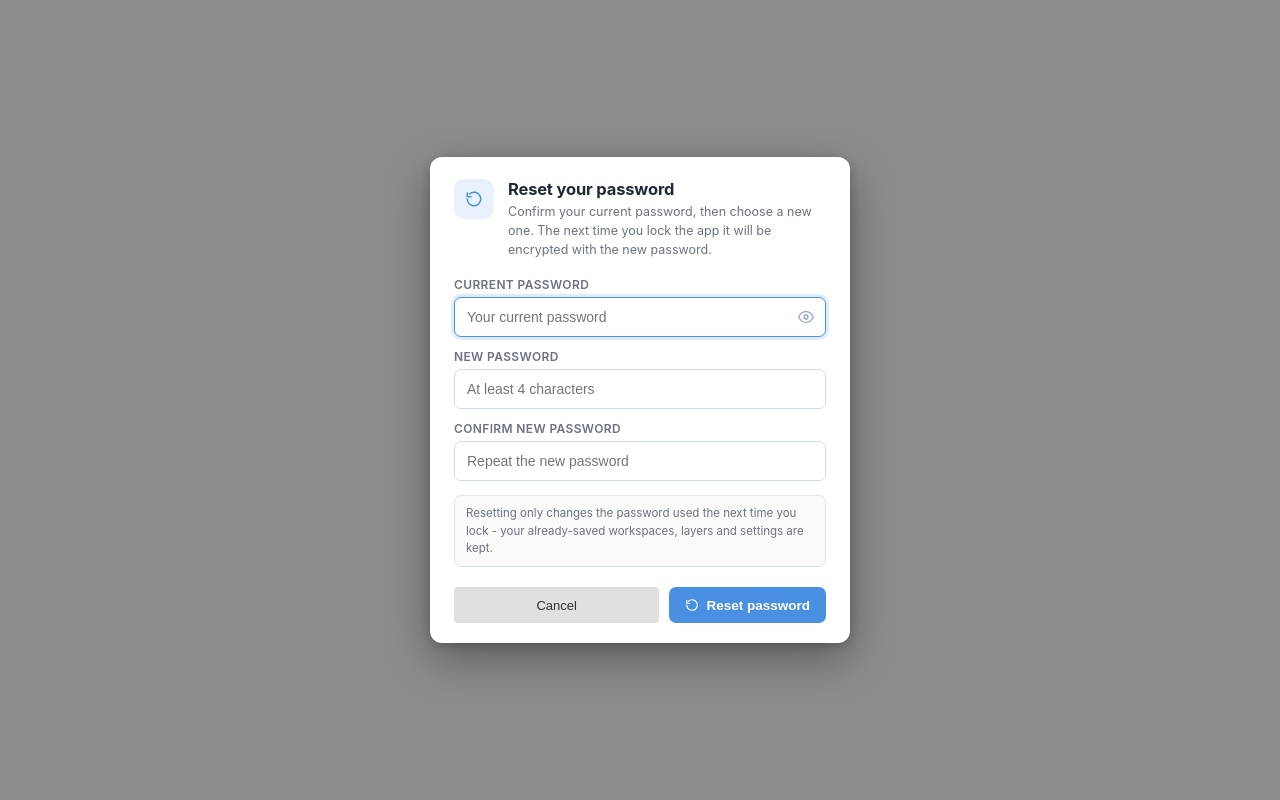
ResetPasswordDialog reports a wrong current password
The width and height of the screenshot is (1280, 800).
Type "nope" into the password field labelled "Current password" at (640, 317), box [454, 297, 826, 337]
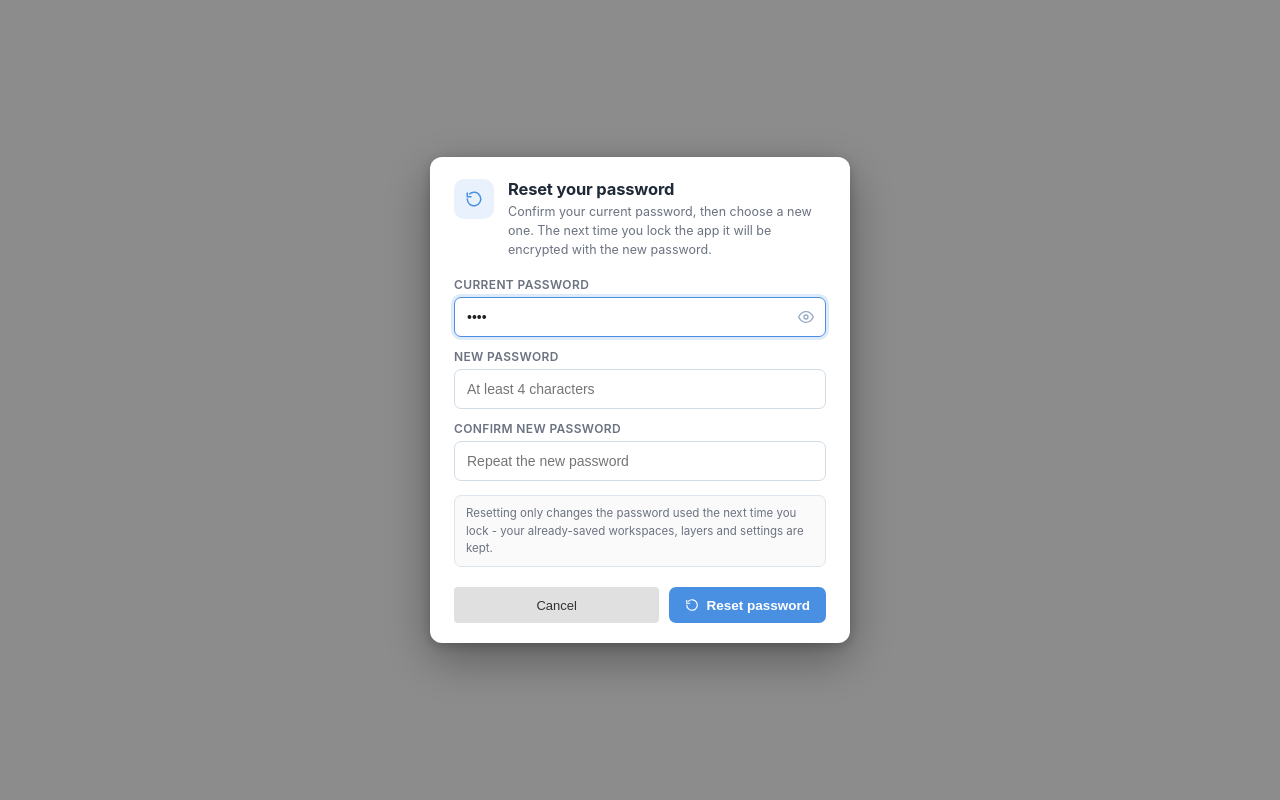
Type "newpass2" into the password field labelled "New password" at (640, 389), box [454, 369, 826, 409]
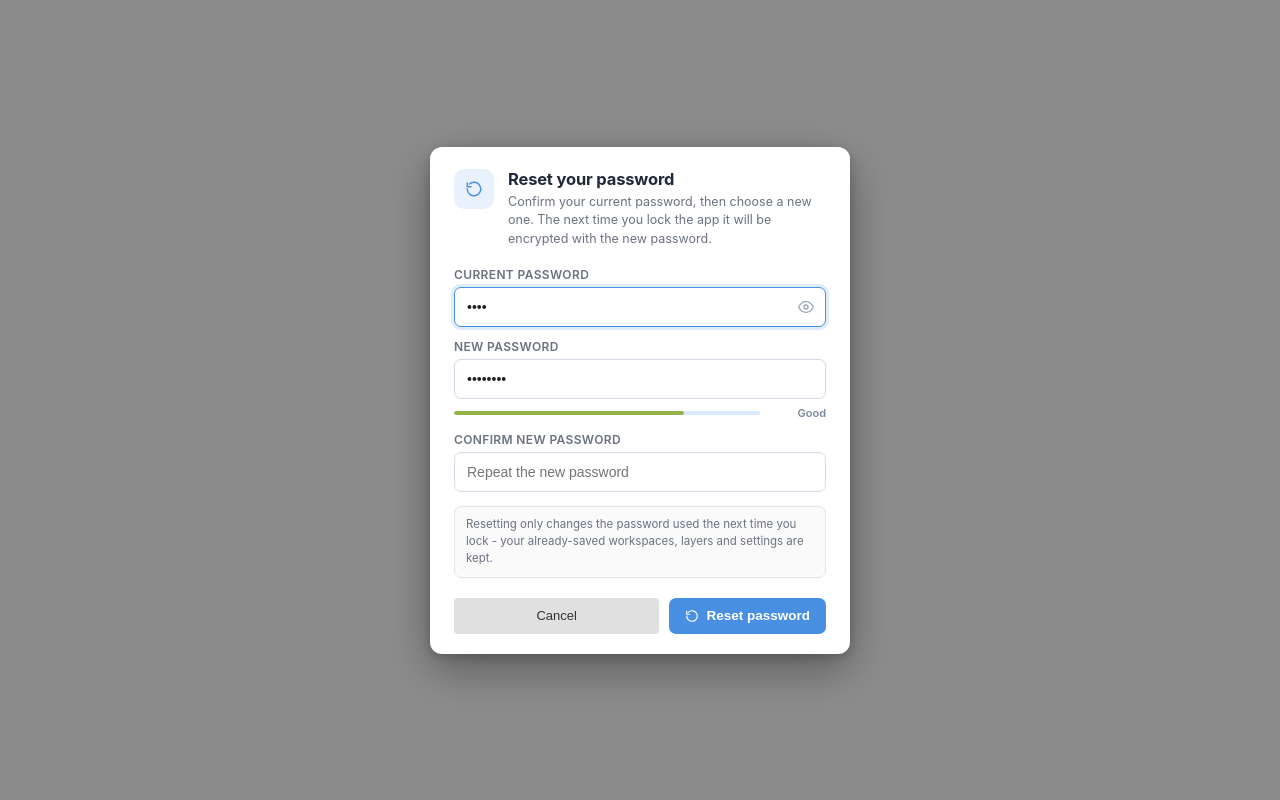
Type "newpass2" into the password field labelled "Confirm new password" at (640, 472), box [454, 452, 826, 492]
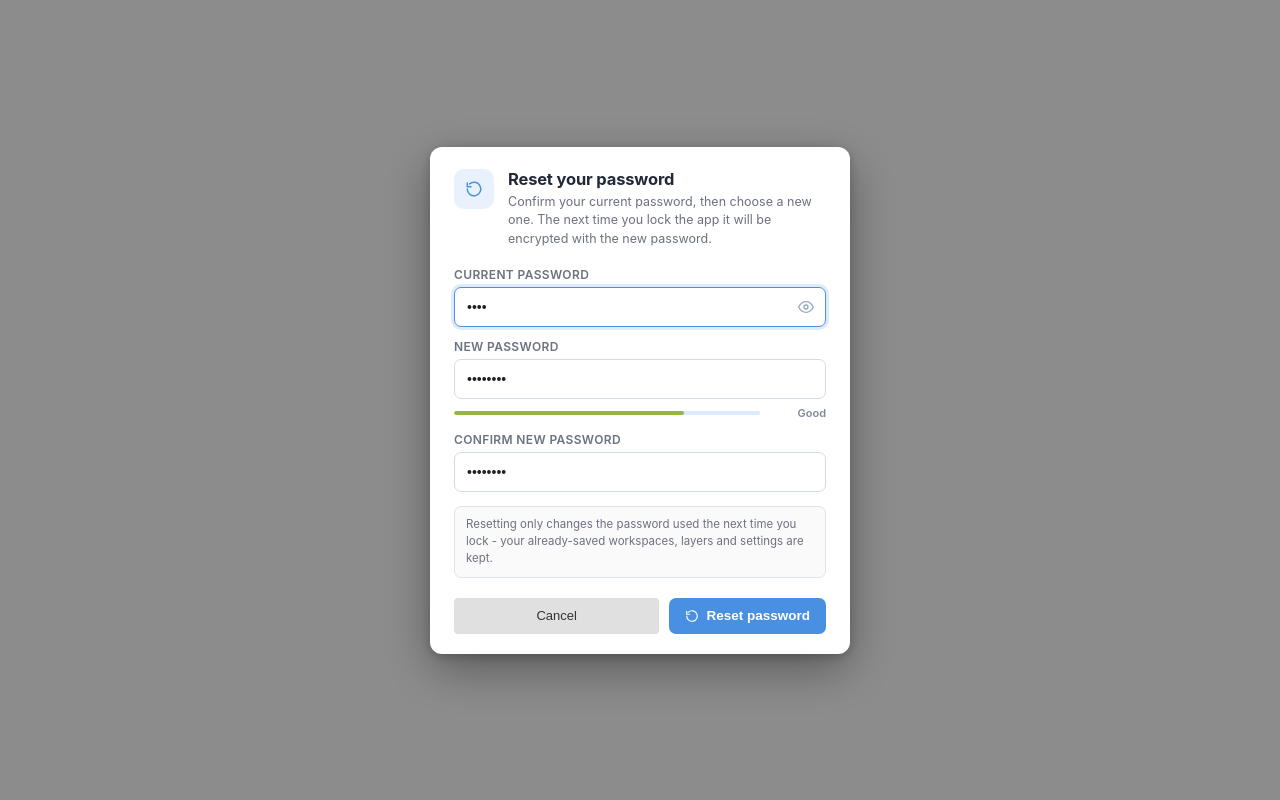
Click the button "Reset password" at (748, 616), box [670, 598, 826, 634]
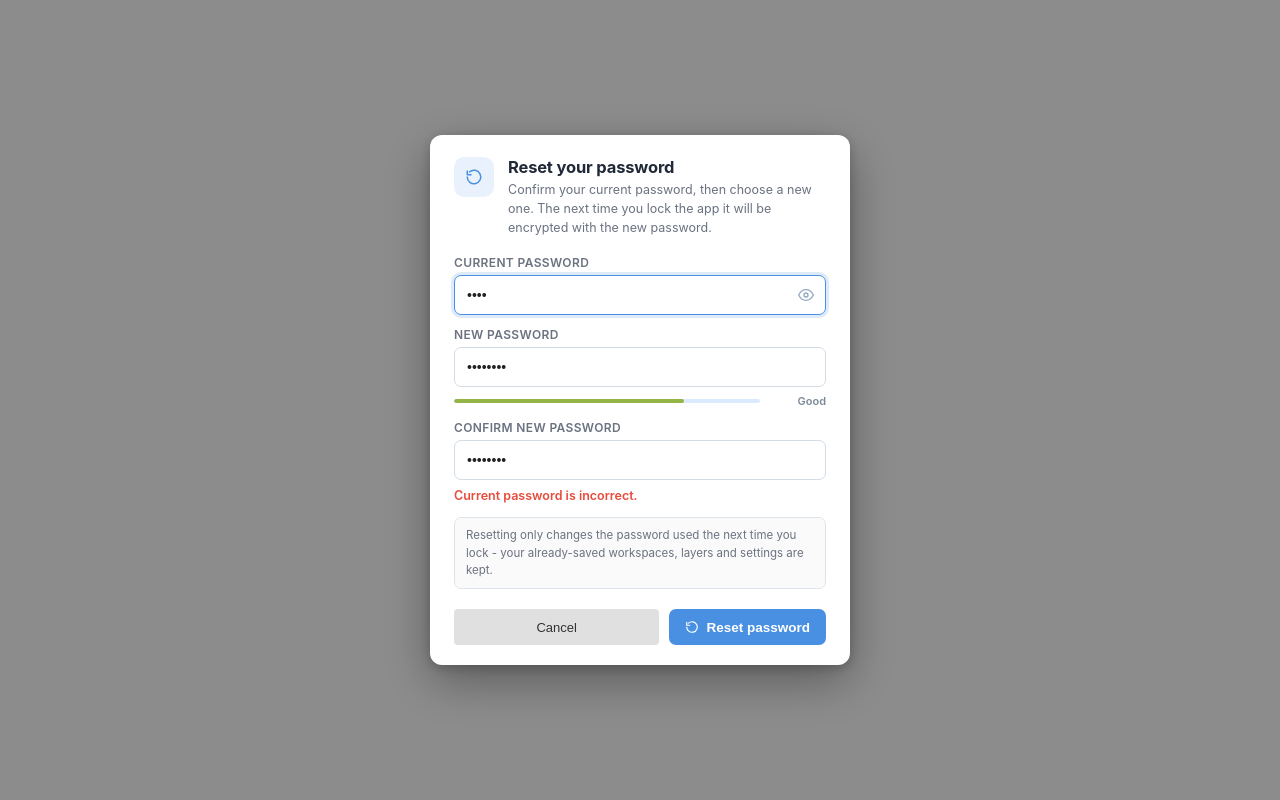
Check: the message shows "Current password is incorrect", box [454, 488, 638, 503]
